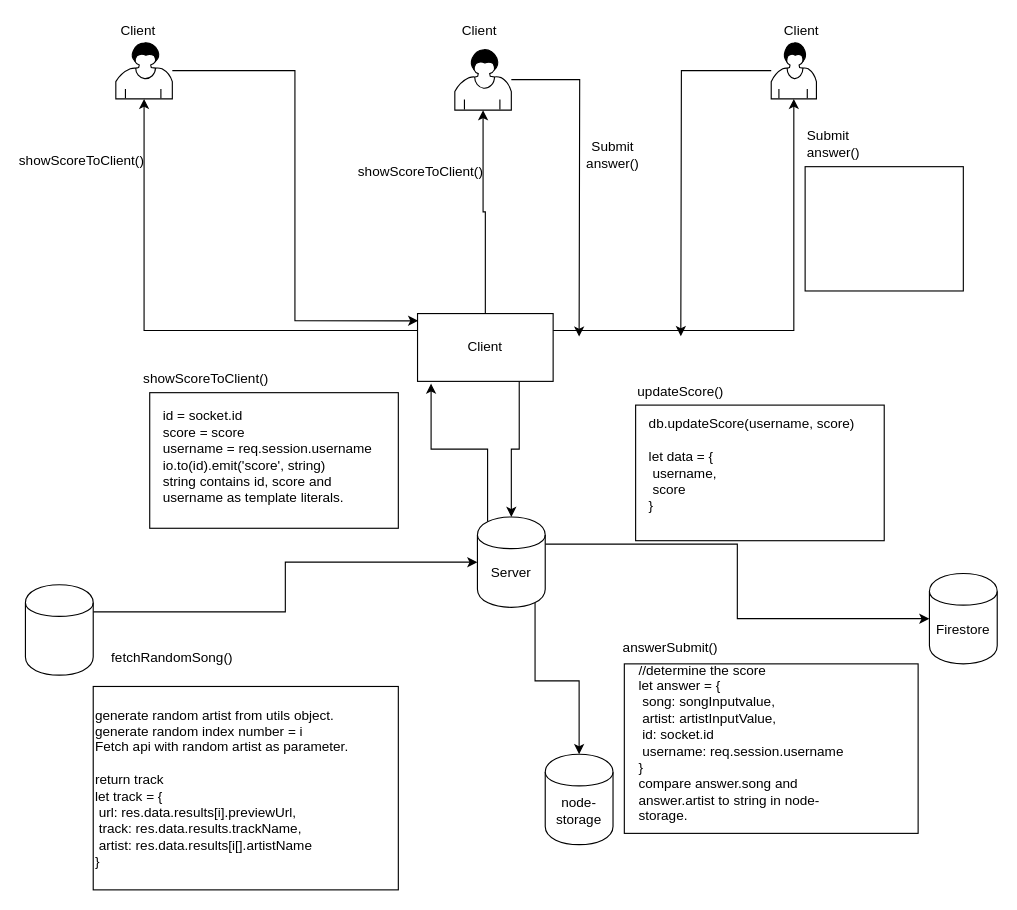
Some shapes in this 1017 by 910 pixel diagram are drawn without their labels. The centre of each missing label's shape, as x and y in pixels:
"Itunes API" belongs at [58,629].
"let data = { song: songInputvalue, artist: artistInputValue, id: socket.id }" belongs at [883,228].
